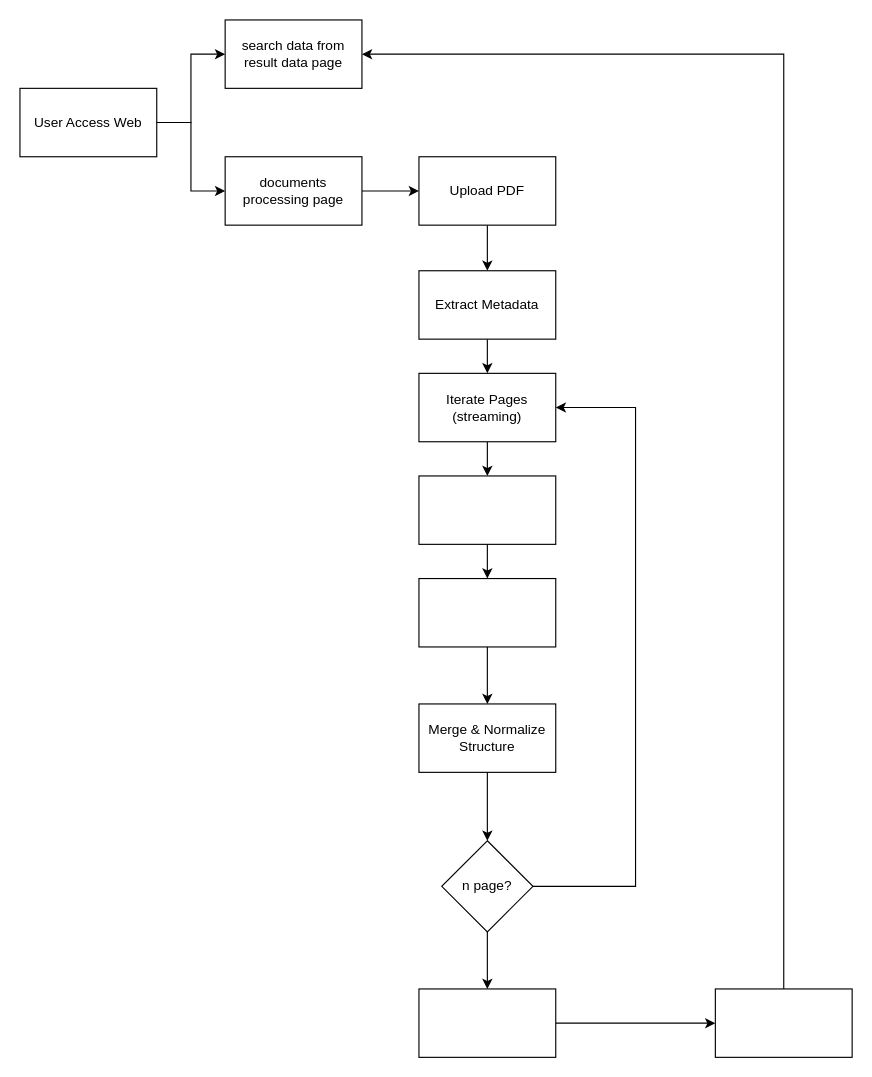
Image size: 872x1077. Some labels were removed from this diagram. Each missing label, with the centre of its shape:
Detect Multi-Page Table (Repeated Header Check): the point at 487,612
Extract Tables per Page (pdfplumber): the point at 487,509
Save metadata to CSV: the point at 783,1022
Streaming Write to CSV: the point at 487,1022
